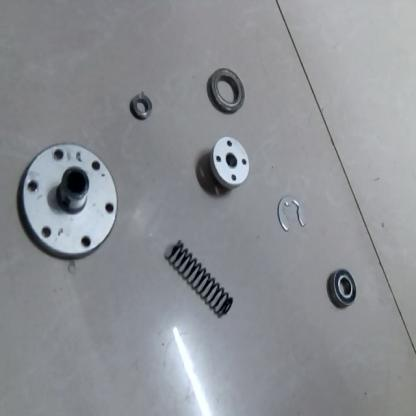FOD: (15, 138, 119, 265), (164, 236, 235, 322), (209, 132, 250, 190), (209, 63, 245, 114), (327, 261, 359, 312), (275, 194, 305, 237), (127, 90, 153, 120)
